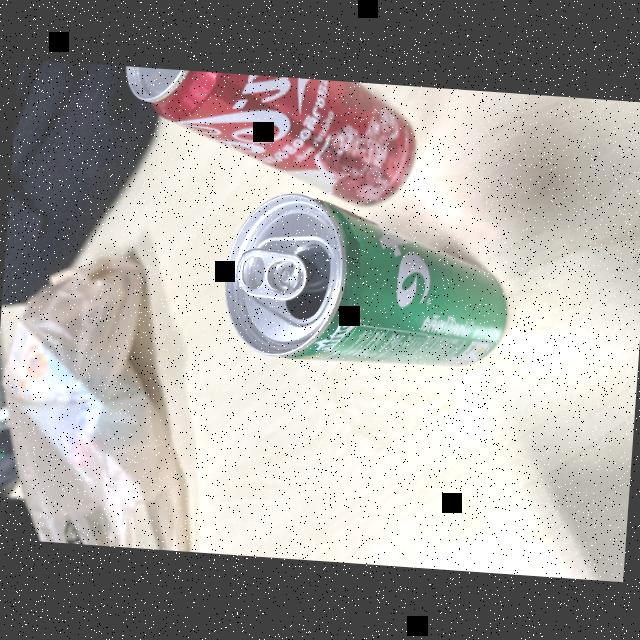can: (204, 185, 516, 384), (112, 65, 427, 208)
